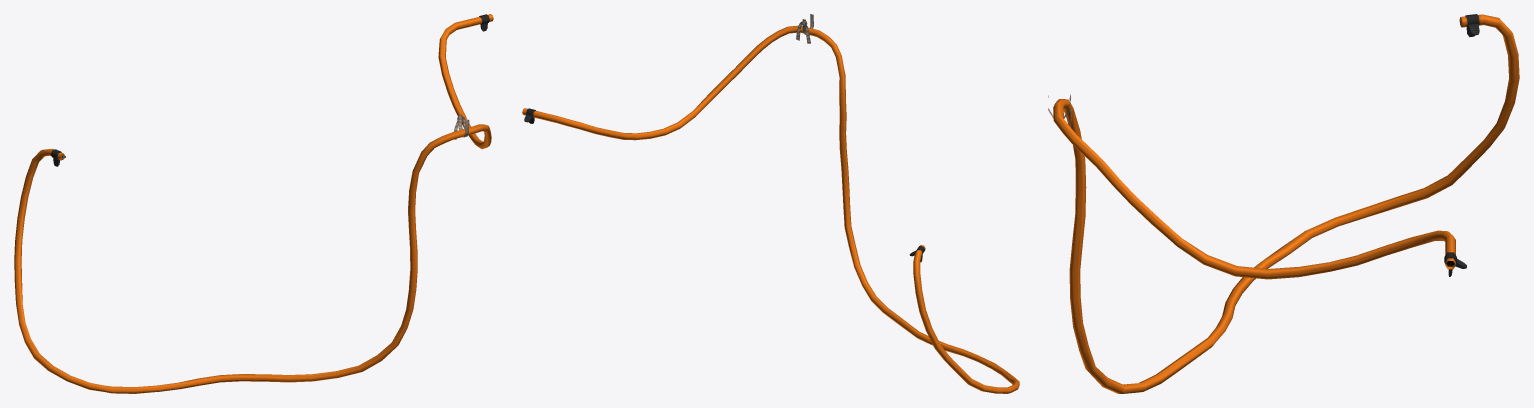
Rendered from jsf_GasRange_13c.fbx.
3 renders of one model, left to right at view 1: azimuth 30°, elevation 25°; view 2: azimuth 150°, elevation 25°; view 3: azimuth 270°, elevation 25°, orthographic. The views are drawn at different scales.
Parts seen in each view (by area): view 1: GasHose; view 2: GasHose; view 3: GasHose.
Boxes of the visible parts, x1,y1,x2,y2 form: GasHose: [14, 14, 493, 393]; GasHose: [522, 14, 1019, 393]; GasHose: [1048, 14, 1519, 393].
Size of the model in its own units: 133 by 68.19 by 77.86.
